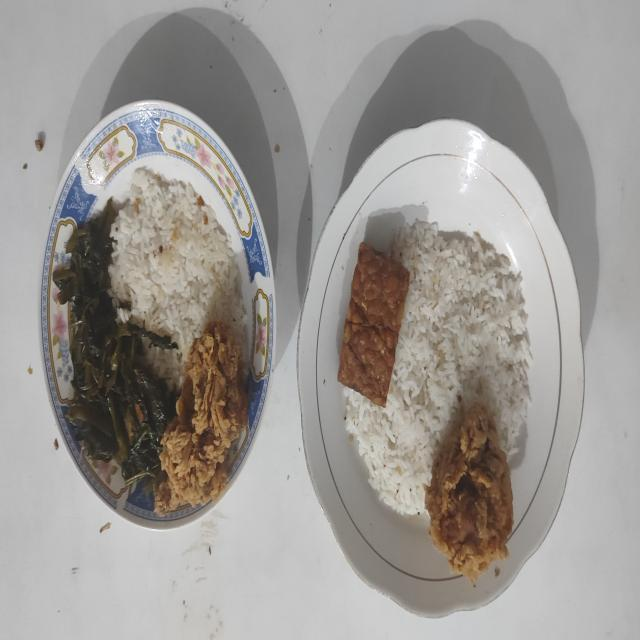nasi_putih: (346, 220, 532, 516), (108, 168, 244, 390)
tempe_goreng: (338, 242, 409, 407)
tumis_kangkung: (53, 199, 179, 482)
